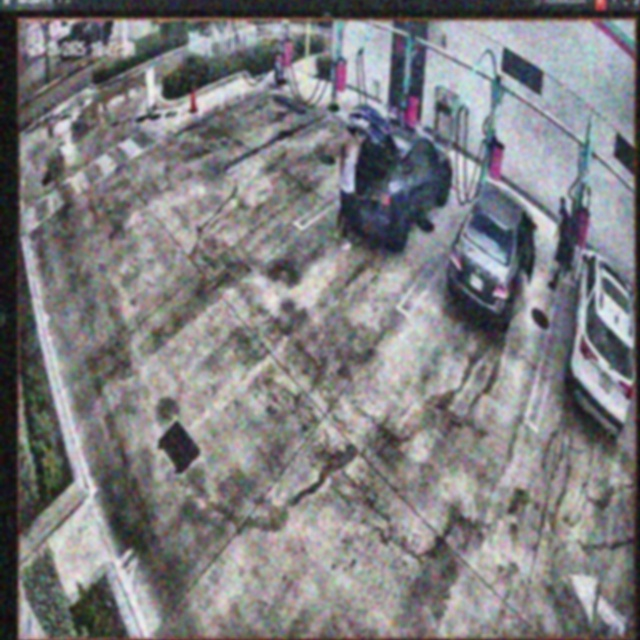Car: (347, 104, 452, 244), (449, 181, 537, 327)
